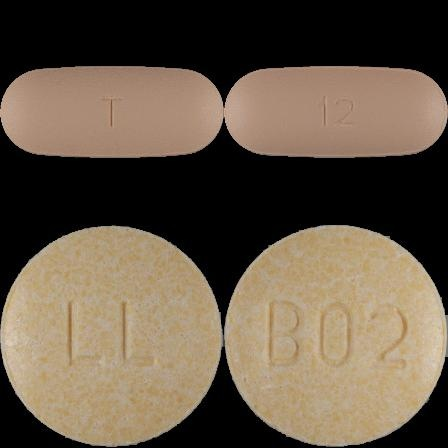43063-457: (0, 0, 224, 224)
